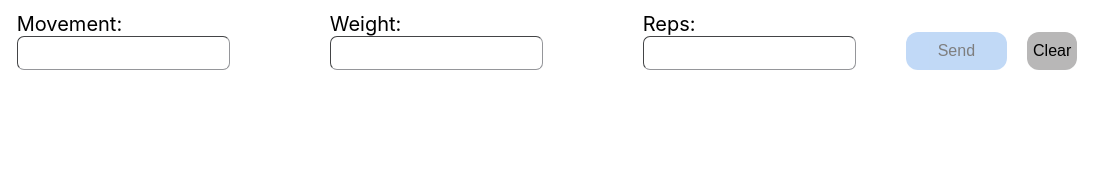
Scenario: should clear input values
The image size is (1094, 172).
Step 1. Type "test" into the field labelled "Movement:" → (123, 53), box [17, 36, 230, 70]
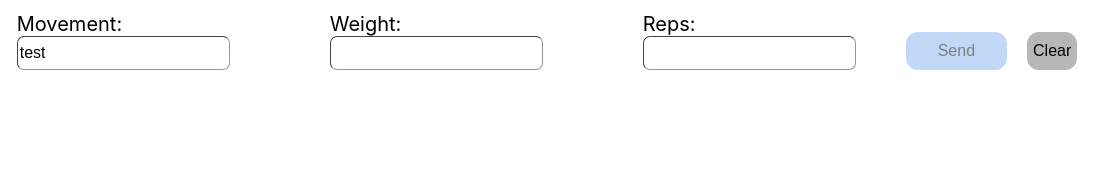
Step 2. Type "test" into the field labelled "Reps:" → (749, 53), box [643, 36, 856, 70]
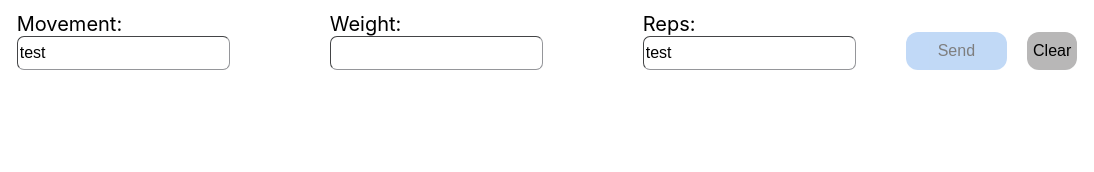
Step 3. Type "test" into the field labelled "Weight:" → (436, 53), box [330, 36, 543, 70]
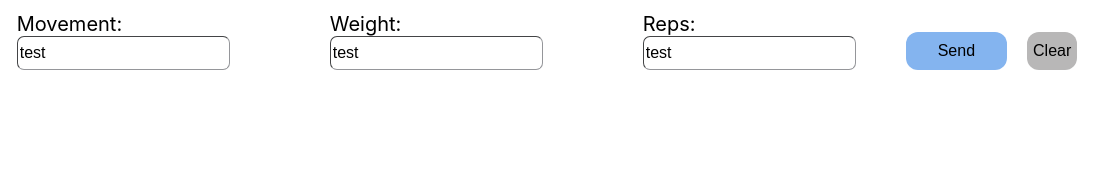
Step 4. Click the button "Clear" → (1052, 51), box [1027, 32, 1077, 70]
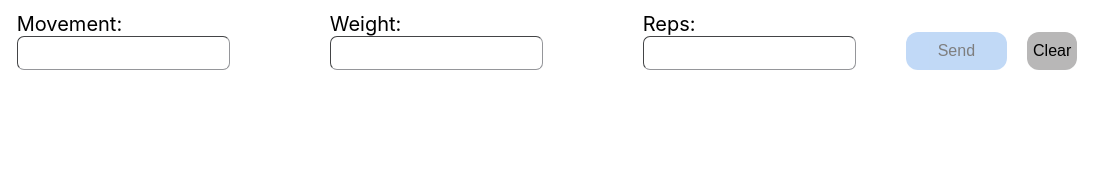
expect the field labelled "Weight:" is empty: met, box [330, 36, 543, 70]
expect the field labelled "Reps:" is empty: met, box [643, 36, 856, 70]
expect the field labelled "Movement:" is empty: met, box [17, 36, 230, 70]
